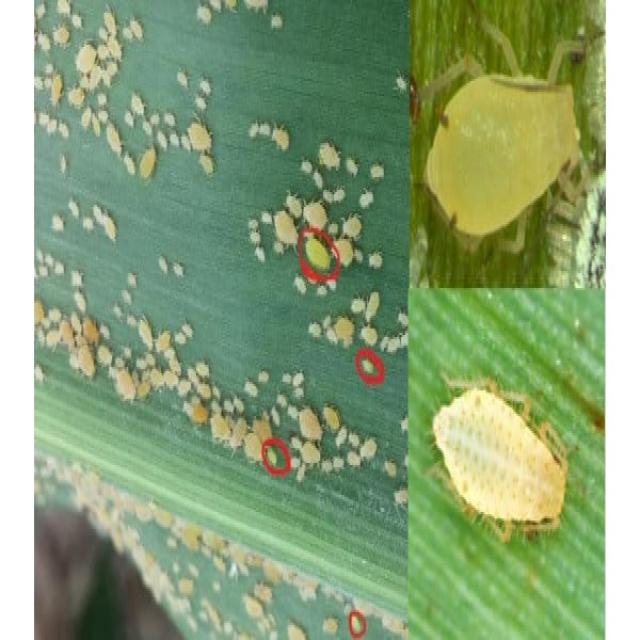Aphid-Grouped-: (194, 329, 372, 509), (34, 1, 177, 196), (35, 242, 178, 417), (248, 103, 378, 290)
Aphid-Grown-: (419, 22, 594, 284), (423, 343, 591, 566), (186, 107, 216, 158), (271, 206, 302, 255), (137, 139, 162, 189), (115, 359, 138, 412), (100, 116, 126, 161), (300, 191, 328, 232), (208, 406, 232, 445), (76, 342, 96, 383)
